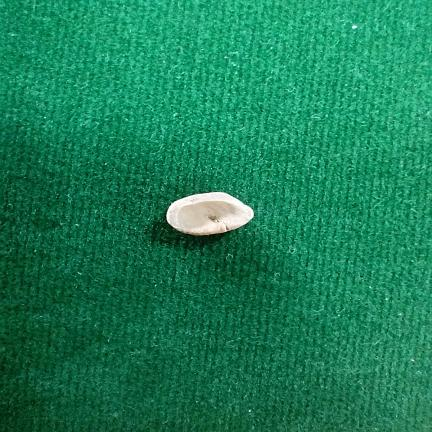shell: (167, 193, 253, 235)
